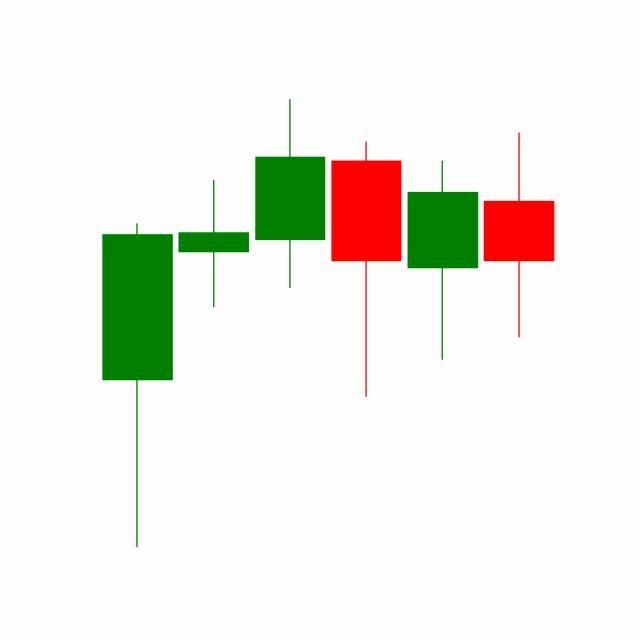Hikkake Pattern: (175, 99, 555, 402)
